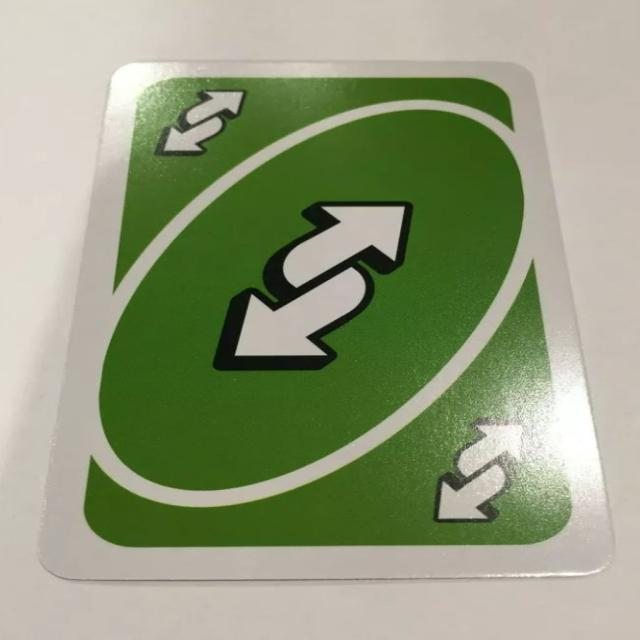Green_Card: (71, 63, 578, 558)
Reverse: (142, 80, 255, 158)
